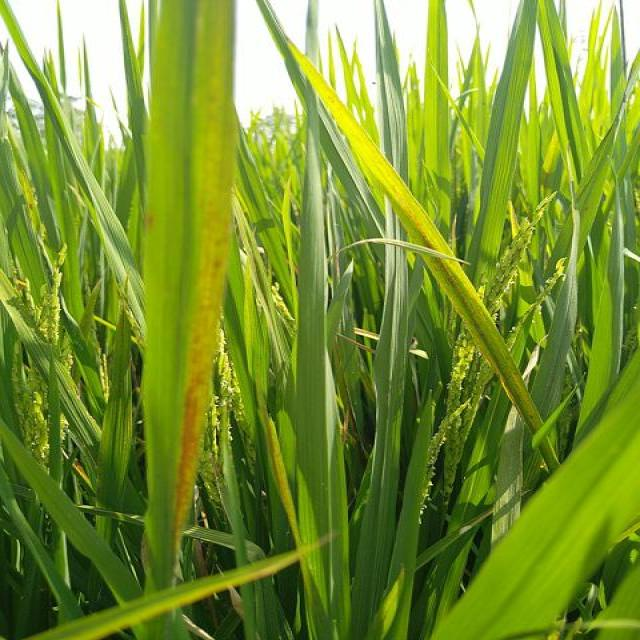Leaf Streak: (297, 55, 541, 435), (173, 0, 235, 545), (259, 402, 300, 543), (144, 210, 153, 234)
